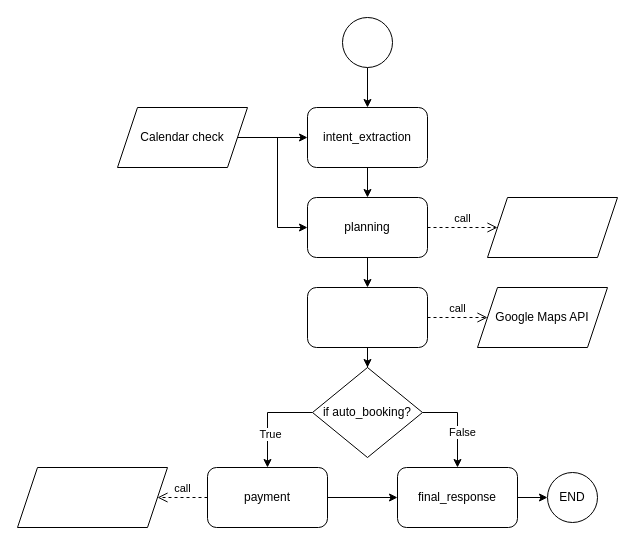
This 635x545 diagram has some shape labels left out. Here are the shapes that lost their labels. From the top down, the centre of each, then its label:
At point (367, 42): "start".
At point (552, 227): "popular place recommendation".
At point (367, 317): "booking (flight/hotel)".
At point (92, 497): "Third-party payment: -xendit -midtans".
